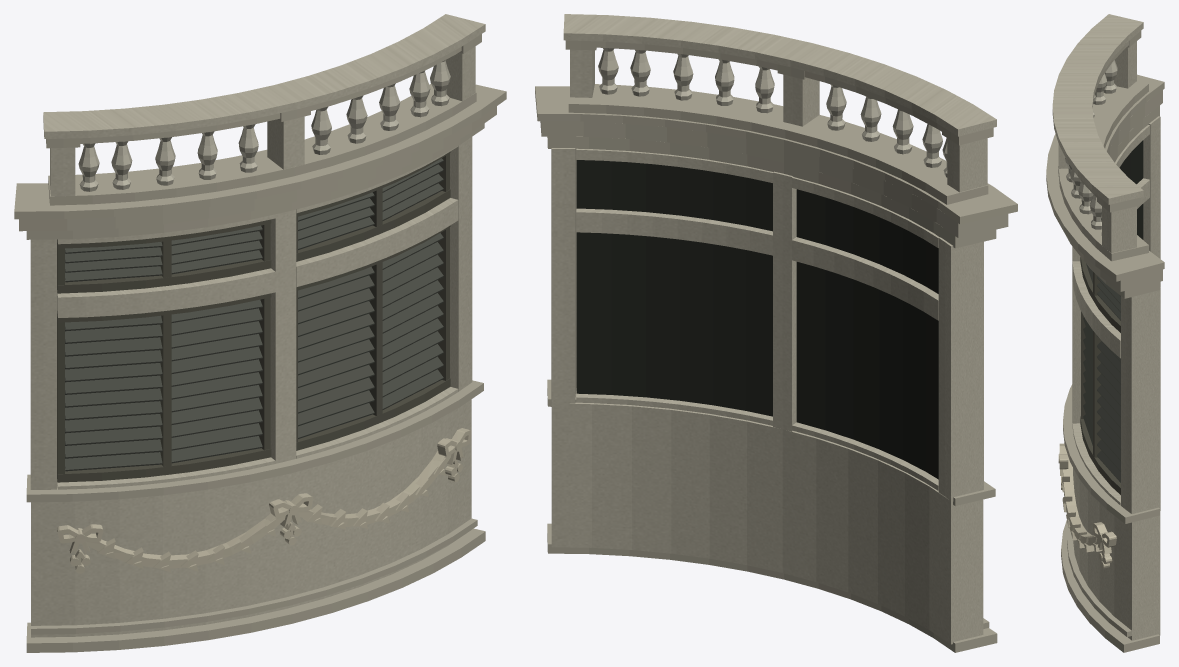
File: huangpu-ying-residence-bowed-shutters-and-garlands-lod.glb
3 renders of one model, left to right at view 1: azimuth 30°, elevation 25°; view 2: azimuth 150°, elevation 25°; view 3: azimuth 270°, elevation 25°, orthographic. The views are drawn at different scales.
Visible parts, largest first — view 1: 应公馆园侧弧形百叶凸窗与垂花窗裙; view 2: 应公馆园侧弧形百叶凸窗与垂花窗裙; view 3: 应公馆园侧弧形百叶凸窗与垂花窗裙.
Part boxes in pixels (x1=…): 应公馆园侧弧形百叶凸窗与垂花窗裙: x1=14, y1=14, x2=506, y2=652; 应公馆园侧弧形百叶凸窗与垂花窗裙: x1=535, y1=14, x2=1017, y2=652; 应公馆园侧弧形百叶凸窗与垂花窗裙: x1=1046, y1=14, x2=1164, y2=652.
Bounding box in the file's own units: 4.01 × 4.09 × 0.975.
7 materials, 1 textured.
